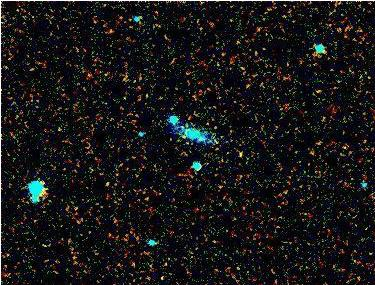star: (224, 136, 254, 166)
